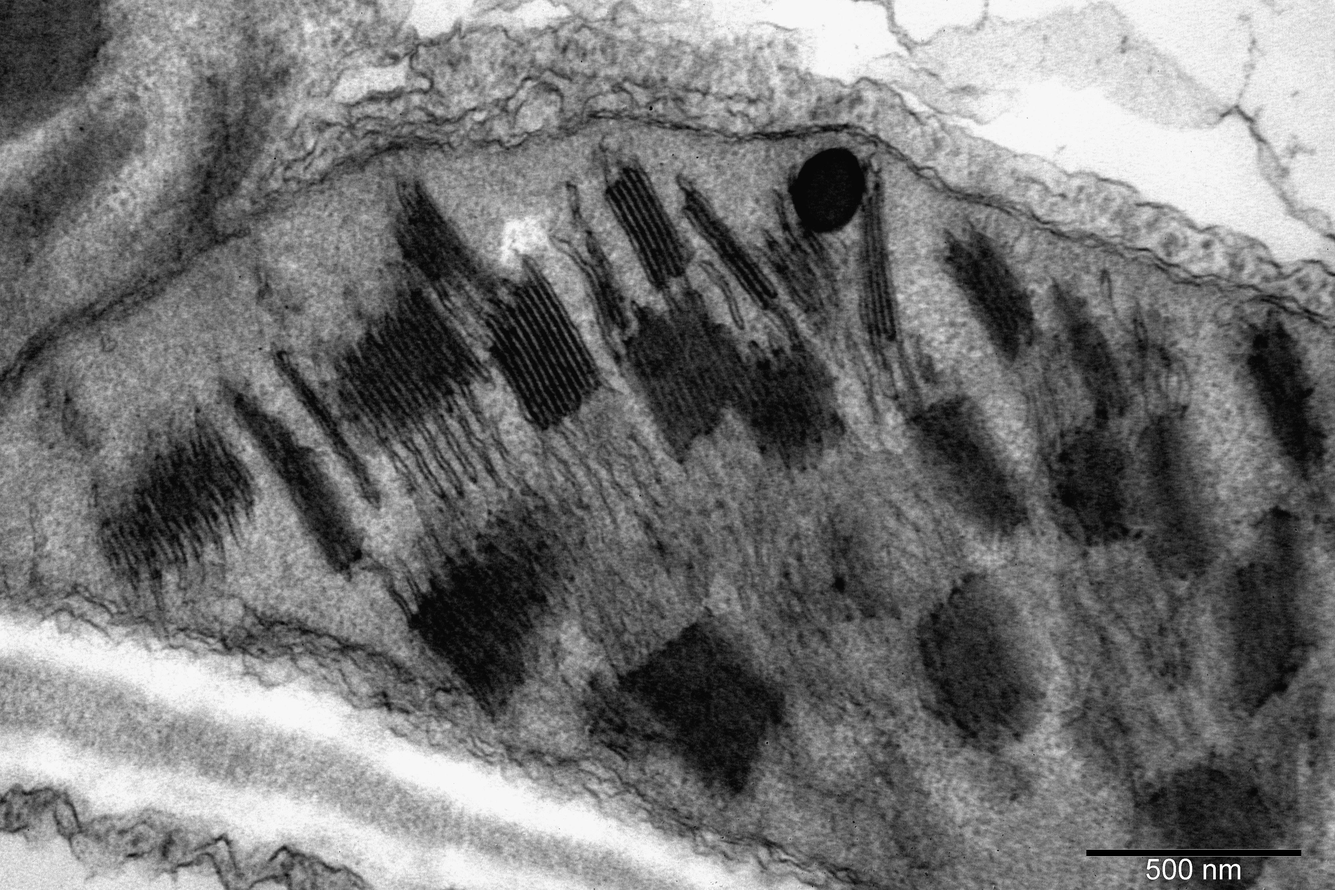granum: (610, 287, 847, 460), (618, 607, 793, 802), (96, 414, 262, 575), (915, 570, 1051, 752), (230, 396, 365, 574), (332, 294, 491, 445), (1, 108, 148, 269), (400, 545, 547, 706), (1219, 503, 1319, 725), (476, 267, 607, 431), (1137, 757, 1287, 886), (901, 392, 1029, 537), (1137, 415, 1228, 588), (0, 0, 107, 142), (682, 183, 782, 313), (942, 229, 1042, 352), (1041, 423, 1141, 544), (1244, 327, 1327, 469), (603, 166, 693, 289), (1053, 288, 1141, 411), (394, 190, 483, 284), (855, 183, 903, 343), (582, 256, 621, 304)
